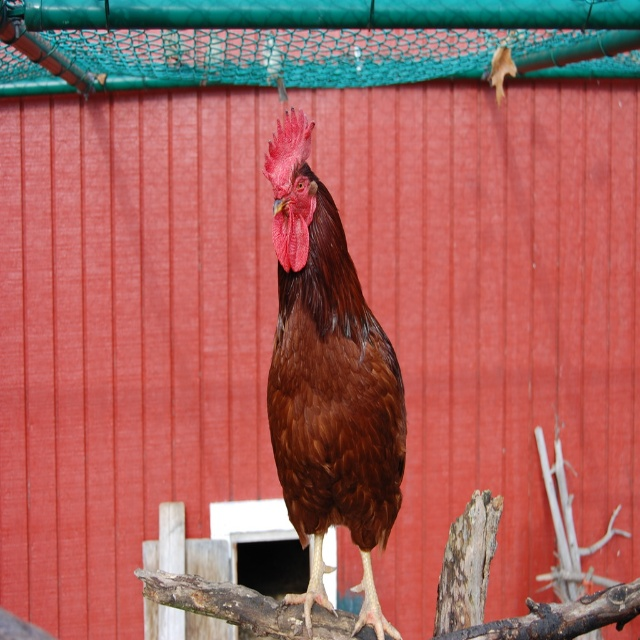Chicken: (261, 111, 408, 639)
